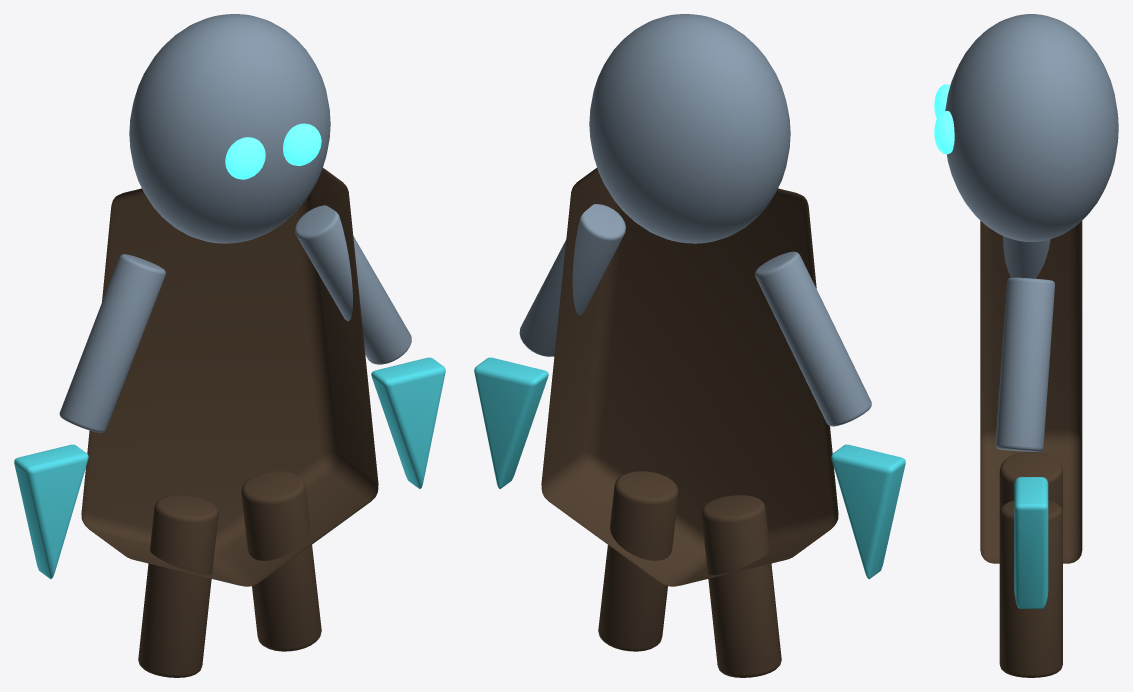
Rendered from humanoid_v4.glb.
The picture shows the model from 3 angles, left to right: view 1: azimuth 30°, elevation 25°; view 2: azimuth 150°, elevation 25°; view 3: azimuth 270°, elevation 25°; orthographic projection. The views are drawn at different scales.
Parts seen in each view (by area): view 1: ROGUE_TUNIC_SECONDARY, ROGUE_HOOD_PRIMARY, ROGUE_LEG_SECONDARY, ROGUE_LEG_SECONDARY.001, ROGUE_ARM_PRIMARY, ROGUE_ARM_PRIMARY.001, ROGUE_DAGGER_ACCENT, ROGUE_DAGGER_ACCENT.001, EYE_EMISSIVE, EYE_EMISSIVE.001; view 2: ROGUE_TUNIC_SECONDARY, ROGUE_HOOD_PRIMARY, ROGUE_LEG_SECONDARY, ROGUE_LEG_SECONDARY.001, ROGUE_ARM_PRIMARY, ROGUE_ARM_PRIMARY.001, ROGUE_DAGGER_ACCENT, ROGUE_DAGGER_ACCENT.001; view 3: ROGUE_HOOD_PRIMARY, ROGUE_TUNIC_SECONDARY, ROGUE_ARM_PRIMARY.001, ROGUE_LEG_SECONDARY.001, ROGUE_DAGGER_ACCENT.001, ROGUE_LEG_SECONDARY, ROGUE_ARM_PRIMARY, EYE_EMISSIVE.001, EYE_EMISSIVE.
Boxes of the visible parts, <box> form: ROGUE_TUNIC_SECONDARY: <box>81,168,378,586</box>; ROGUE_HOOD_PRIMARY: <box>129,14,330,243</box>; ROGUE_LEG_SECONDARY: <box>138,495,218,677</box>; ROGUE_LEG_SECONDARY.001: <box>241,471,321,651</box>; ROGUE_ARM_PRIMARY: <box>59,254,165,432</box>; ROGUE_ARM_PRIMARY.001: <box>295,205,411,364</box>; ROGUE_DAGGER_ACCENT: <box>14,444,88,579</box>; ROGUE_DAGGER_ACCENT.001: <box>371,357,445,488</box>; EYE_EMISSIVE: <box>225,137,265,179</box>; EYE_EMISSIVE.001: <box>283,123,321,165</box>; ROGUE_TUNIC_SECONDARY: <box>541,168,838,586</box>; ROGUE_HOOD_PRIMARY: <box>589,14,790,243</box>; ROGUE_LEG_SECONDARY: <box>701,495,781,677</box>; ROGUE_LEG_SECONDARY.001: <box>598,471,678,651</box>; ROGUE_ARM_PRIMARY: <box>755,251,871,426</box>; ROGUE_ARM_PRIMARY.001: <box>519,204,625,356</box>; ROGUE_DAGGER_ACCENT: <box>831,444,905,579</box>; ROGUE_DAGGER_ACCENT.001: <box>474,357,548,488</box>; ROGUE_HOOD_PRIMARY: <box>945,14,1118,241</box>; ROGUE_TUNIC_SECONDARY: <box>980,221,1082,563</box>; ROGUE_ARM_PRIMARY.001: <box>995,277,1054,451</box>; ROGUE_LEG_SECONDARY.001: <box>999,500,1062,677</box>; ROGUE_DAGGER_ACCENT.001: <box>1014,477,1048,608</box>; ROGUE_LEG_SECONDARY: <box>999,451,1062,511</box>; ROGUE_ARM_PRIMARY: <box>1003,236,1050,278</box>; EYE_EMISSIVE.001: <box>934,111,954,154</box>; EYE_EMISSIVE: <box>934,84,950,118</box>.
Bounding box in the file's own units: 1.95 × 2.82 × 0.76.
